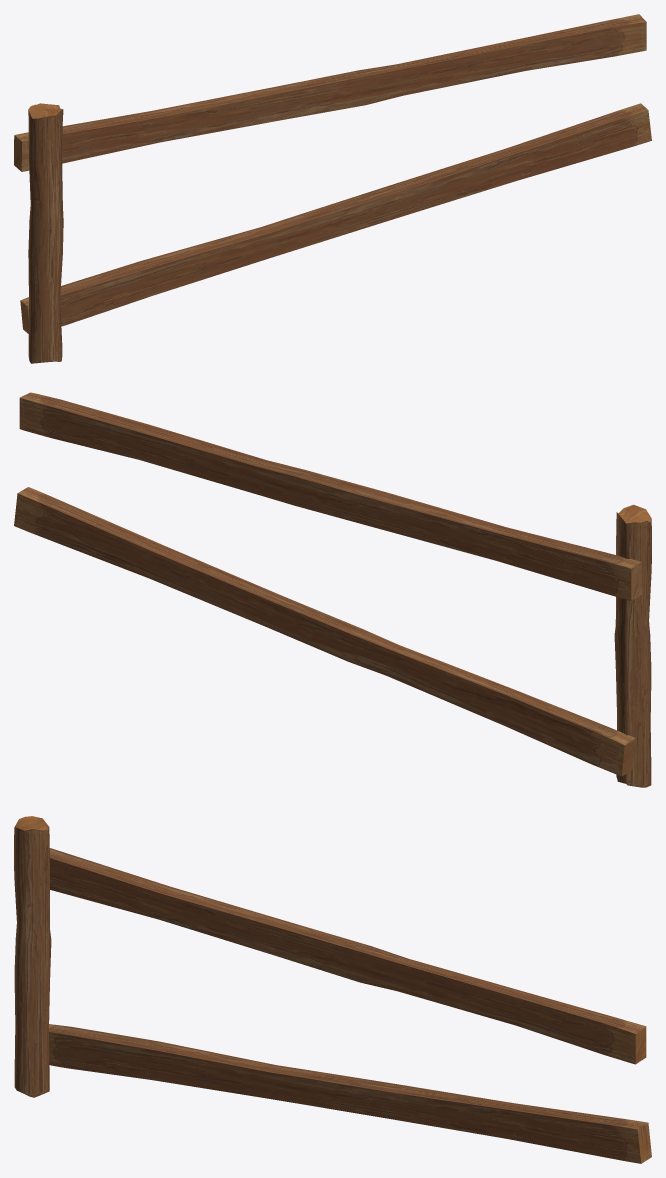
The model's file is SM_Farm_Fence_02.fbx.
The picture shows the model from 3 angles, top to bottom: view 1: azimuth 30°, elevation 25°; view 2: azimuth 150°, elevation 25°; view 3: azimuth 330°, elevation 25°; orthographic projection. The views are drawn at different scales.
Visible parts, largest first — view 1: SM_Farm_Fence_02_LOD0; view 2: SM_Farm_Fence_02_LOD0; view 3: SM_Farm_Fence_02_LOD0.
Boxes of the visible parts, <box> form: SM_Farm_Fence_02_LOD0: <box>14,14,651,363</box>; SM_Farm_Fence_02_LOD0: <box>14,392,651,787</box>; SM_Farm_Fence_02_LOD0: <box>14,816,651,1163</box>.
Size of what is drawn, in the model's own units: 295 by 118 by 29.9.
